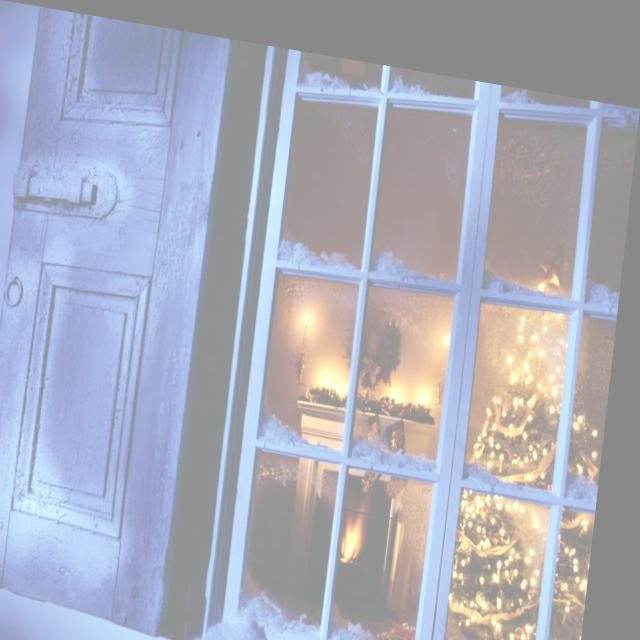Fire: (348, 495, 384, 557)
